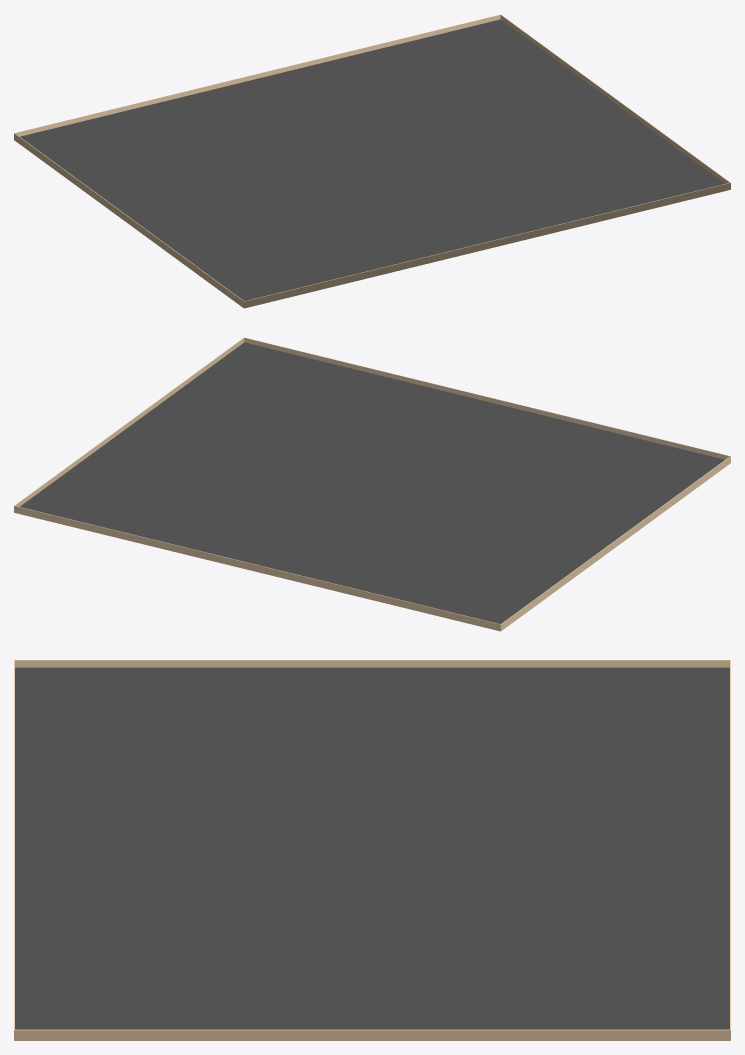
File: arena_rectangle_3.obj
3 renders of one model, top to bottom at view 1: azimuth 30°, elevation 25°; view 2: azimuth 150°, elevation 25°; view 3: azimuth 270°, elevation 25°, orthographic. The views are drawn at different scales.
Size of the model in its own units: 220 by 3 by 180.
1 material, 1 textured.
